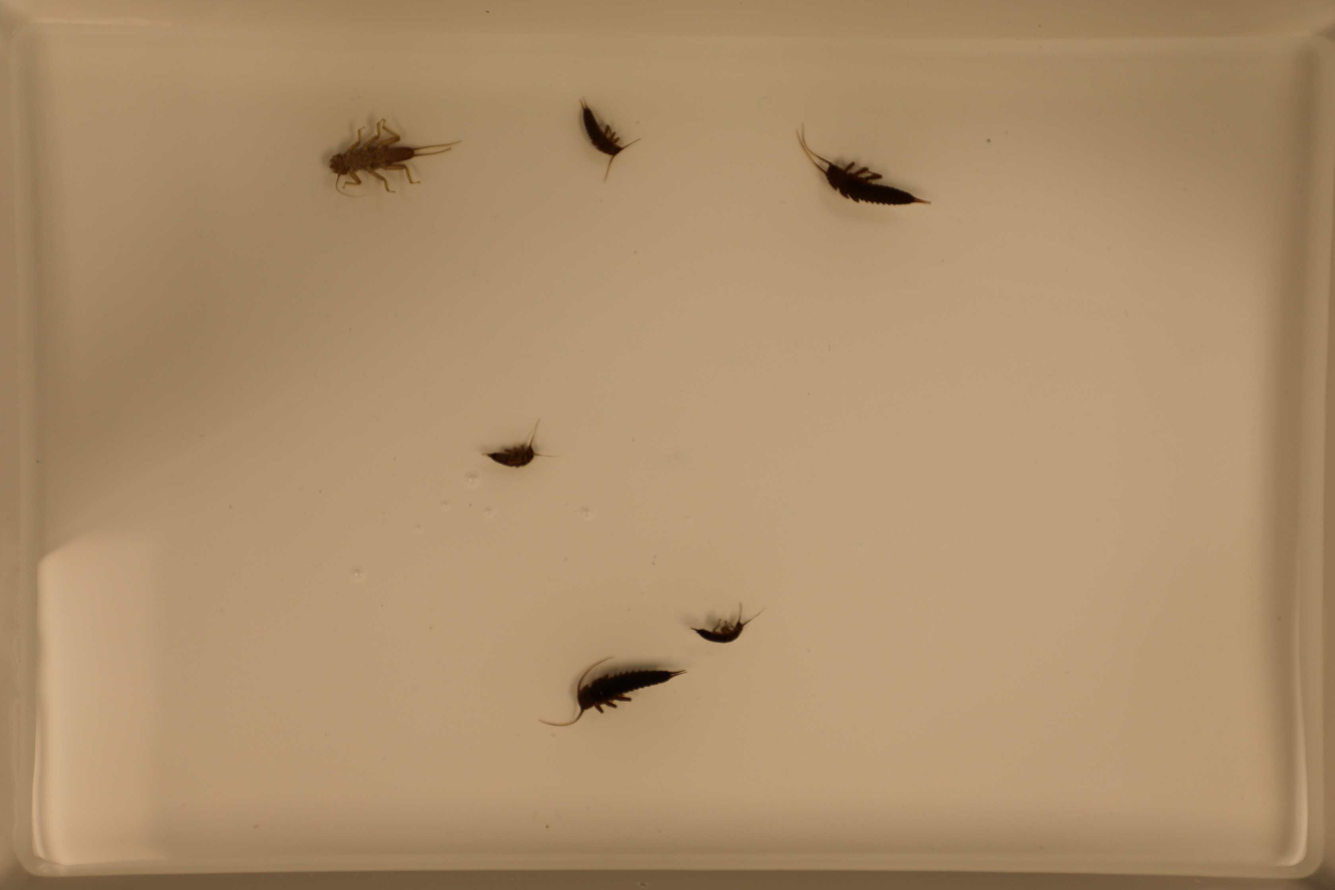Stonefly: (796, 127, 931, 213), (322, 111, 456, 195), (537, 656, 684, 731), (575, 96, 641, 183), (476, 421, 548, 479), (684, 594, 763, 644)
